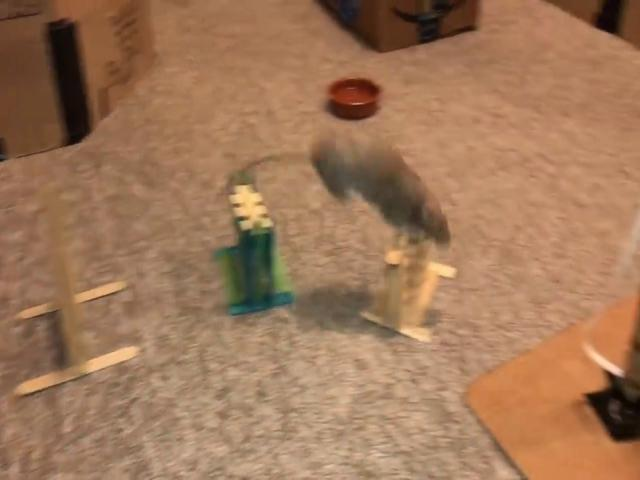Tikus: (239, 126, 450, 245)
